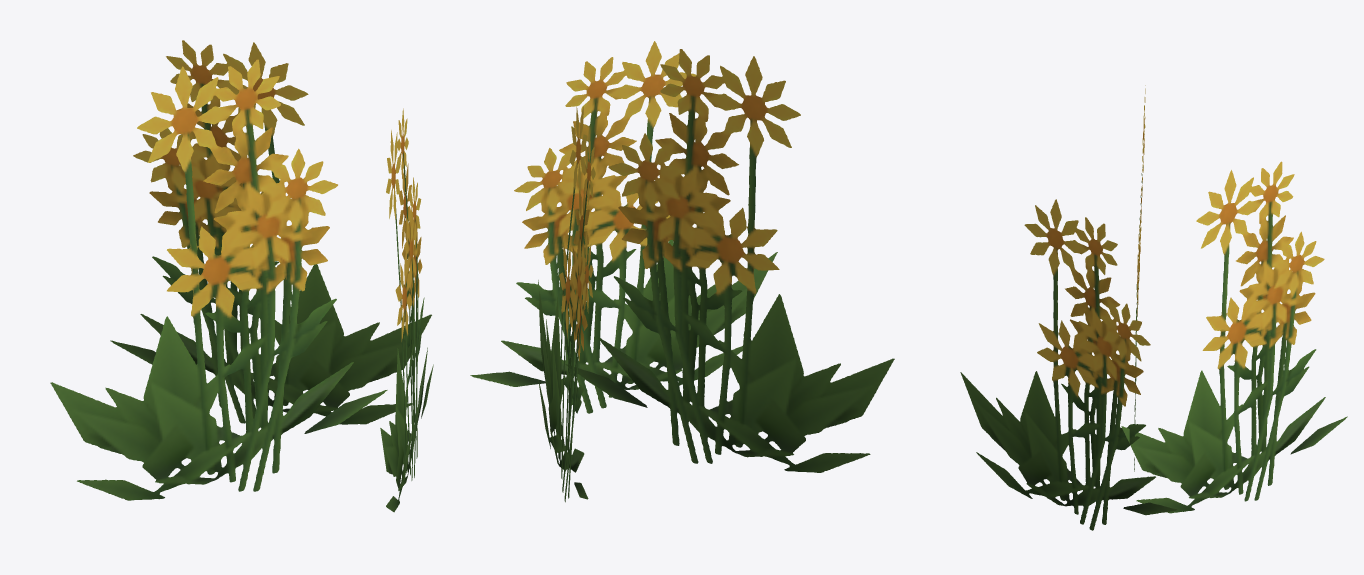
Rendered from flowers_yellow.glb.
3 renders of one model, left to right at view 1: azimuth 30°, elevation 25°; view 2: azimuth 150°, elevation 25°; view 3: azimuth 270°, elevation 25°, orthographic. The views are drawn at different scales.
Visible parts, largest first — view 1: flowers_yellow_mesh; view 2: flowers_yellow_mesh; view 3: flowers_yellow_mesh.
Part boxes in pixels (<box>): flowers_yellow_mesh: <box>50,40,433,512</box>; flowers_yellow_mesh: <box>470,41,894,502</box>; flowers_yellow_mesh: <box>960,85,1347,530</box>.
Bounding box in the file's own units: 0.4399 × 0.4175 × 0.4152.
1 material, 1 textured.
